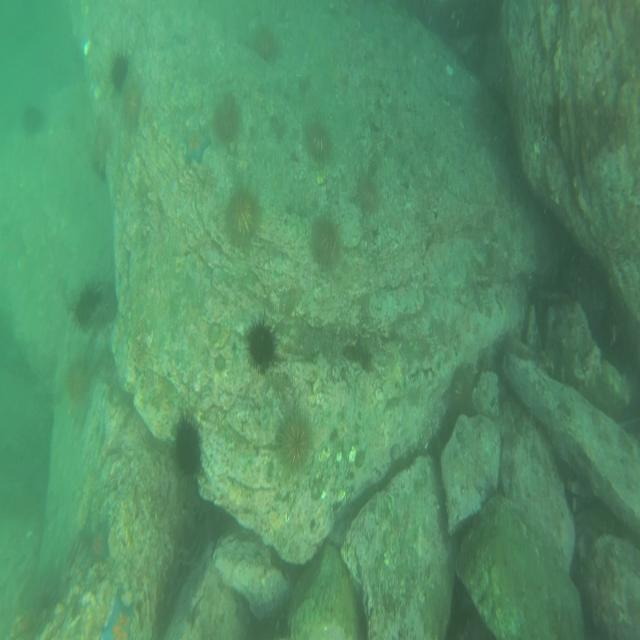echinus: (280, 408, 314, 472), (310, 220, 342, 273), (174, 416, 204, 472), (227, 185, 253, 246), (249, 316, 274, 377), (214, 95, 244, 145), (306, 116, 331, 162), (64, 358, 90, 401), (74, 288, 100, 329), (356, 172, 380, 212), (88, 125, 109, 164), (120, 90, 140, 129), (254, 30, 278, 62), (20, 106, 45, 135), (110, 51, 126, 95)
starfish: (103, 591, 134, 637), (84, 528, 110, 560)
